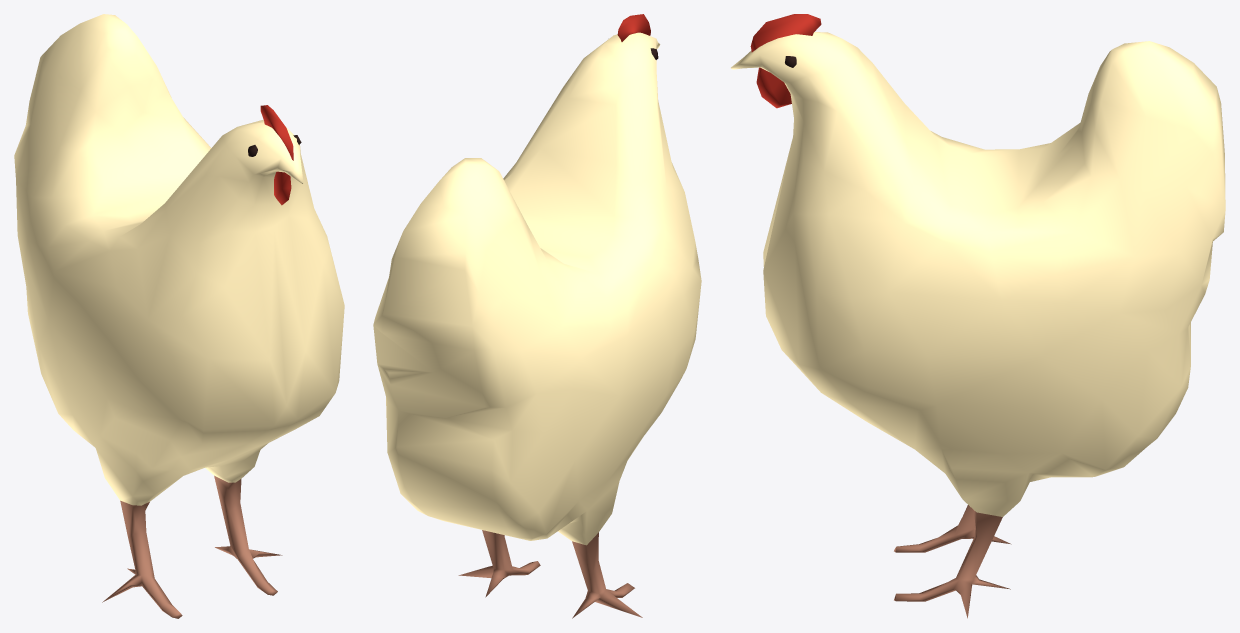
3 views of the same model, side by side, from view 1: azimuth 30°, elevation 25°; view 2: azimuth 150°, elevation 25°; view 3: azimuth 270°, elevation 25° (orthographic). The views are drawn at different scales.
Visible parts, largest first — view 1: Chicken; view 2: Chicken; view 3: Chicken.
Boxes of the visible parts, left/top/right/bottom form: Chicken: left=14, top=14, right=344, bottom=618; Chicken: left=373, top=14, right=701, bottom=618; Chicken: left=731, top=14, right=1225, bottom=618.
Size of what is drawn, in the model's own units: 0.2935 by 0.6878 by 0.5488.
1 material, 1 textured.
